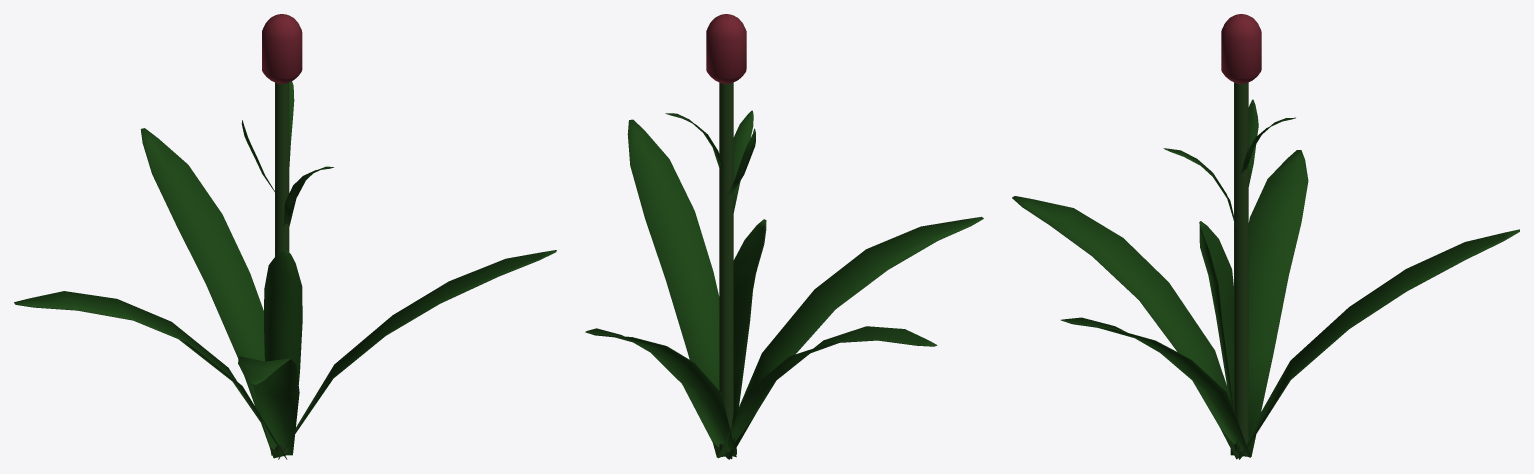
The model's file is Might_Seed.fbx.
3 renders of one model, left to right at view 1: azimuth 30°, elevation 25°; view 2: azimuth 150°, elevation 25°; view 3: azimuth 270°, elevation 25°, orthographic.
Parts seen in each view (by area): view 1: Leaf; view 2: Leaf; view 3: Leaf.
Boxes of the visible parts, <box> form: Leaf: <box>14,14,556,459</box>; Leaf: <box>585,14,983,459</box>; Leaf: <box>1012,14,1519,459</box>.
Bounding box in the file's own units: 0.7502 × 0.7417 × 0.7769.
